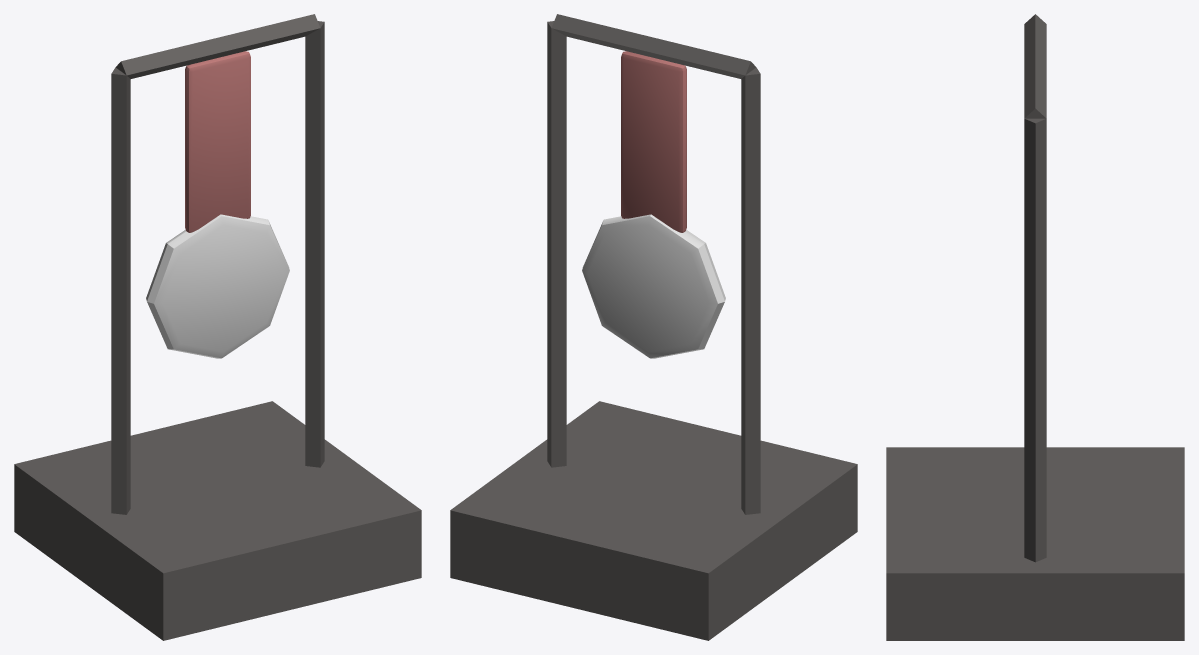
Rendered from trophy_medal.gltf.
3 views of the same model, side by side, from view 1: azimuth 30°, elevation 25°; view 2: azimuth 150°, elevation 25°; view 3: azimuth 270°, elevation 25° (orthographic).
Visible parts, largest first — view 1: Body; view 2: Body; view 3: Body.
Boxes of the visible parts, x1,y1,x2,y2 form: Body: (14,14,421,640); Body: (450,14,857,640); Body: (886,14,1184,640).
Bounding box in the file's own units: 0.08 × 0.153 × 0.08.
